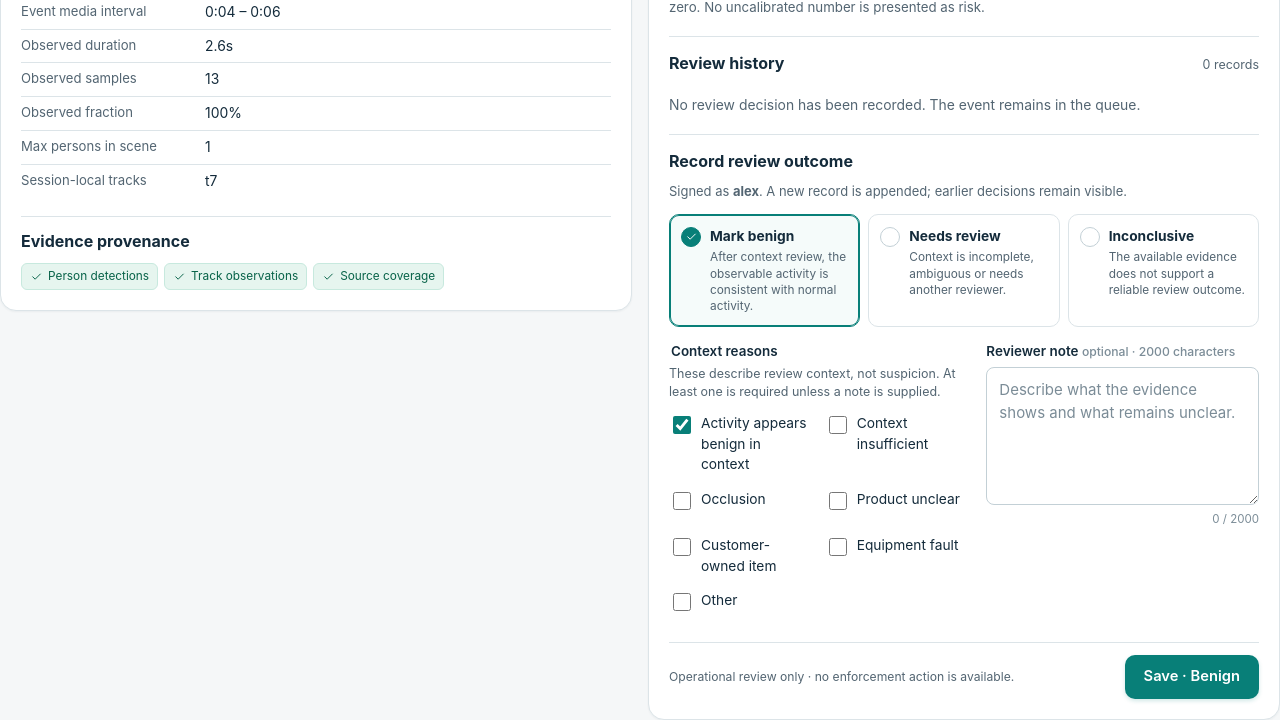
Test: EventDetailPanel › posts a review with reviewer identity and an idempotency key
(page scrolled)
Expected: the text "Signed as" shows "alex", [733,183,759,199]
Click the button "Save · Benign" at (1192, 677), box [1125,655,1259,699]
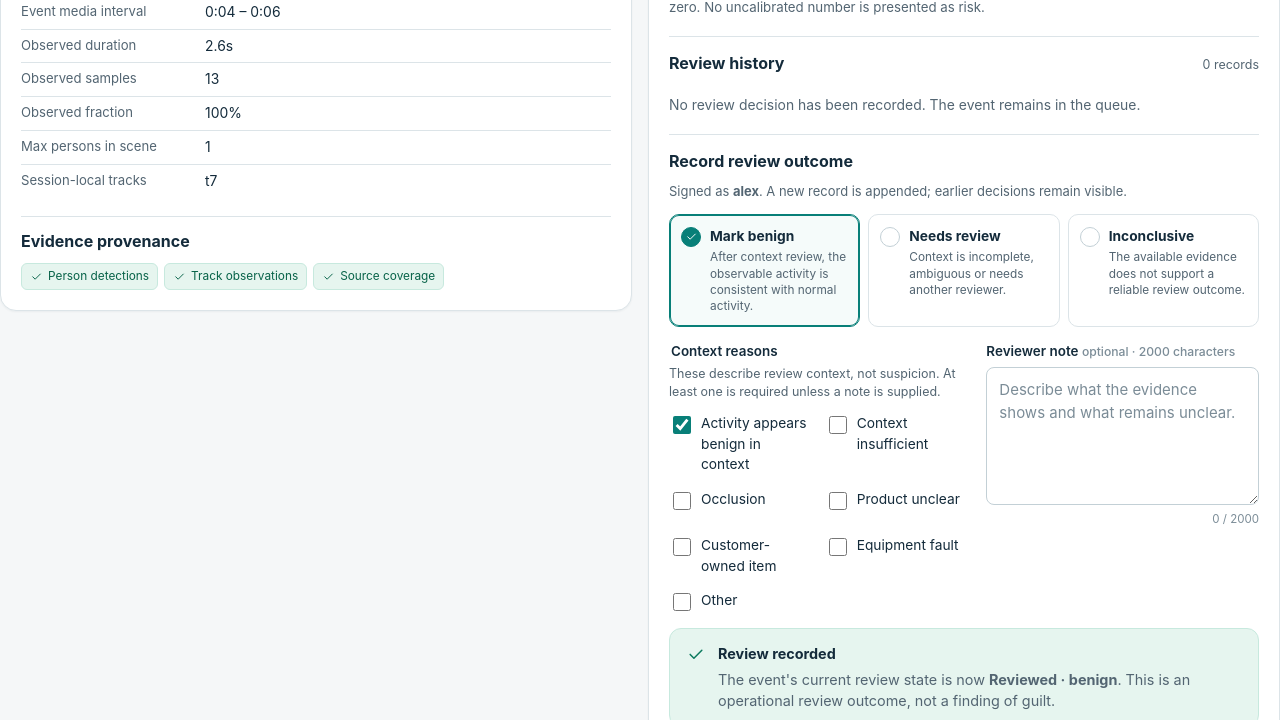
Expected: the text "alex" is shown, [733,183,759,199]
Expected: the text "Review recorded" is shown, [718,645,836,662]
